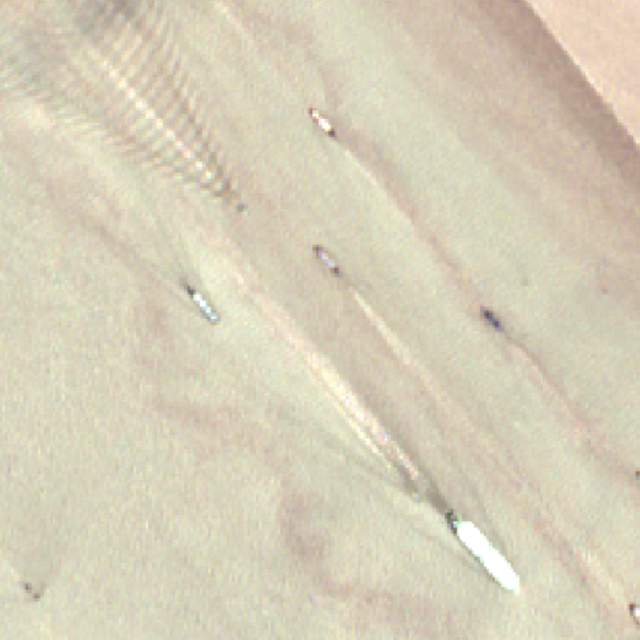wake: (49, 12, 295, 258)
